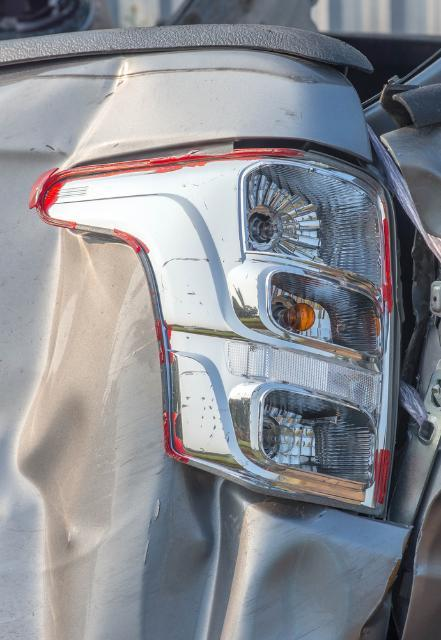dent: (0, 230, 137, 640), (142, 462, 358, 640), (37, 56, 173, 165)
lamp broken: (44, 143, 395, 512)
